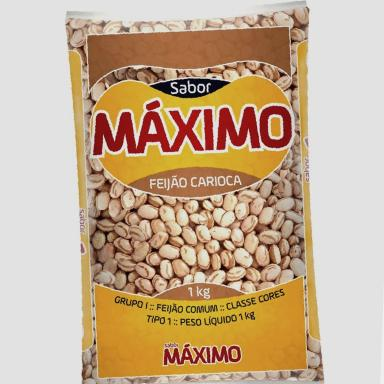beans package: (67, 2, 323, 383)
